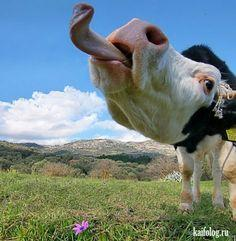cow: (55, 5, 236, 185)
